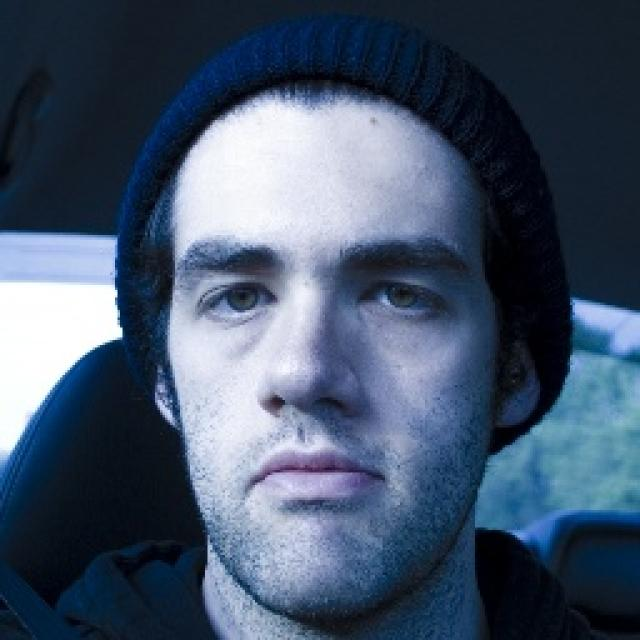earlobe: (492, 384, 530, 430), (152, 383, 185, 433)
eye: (356, 275, 444, 326), (204, 282, 272, 323)
nose: (259, 402, 353, 440)
wholeear: (492, 340, 542, 430)
